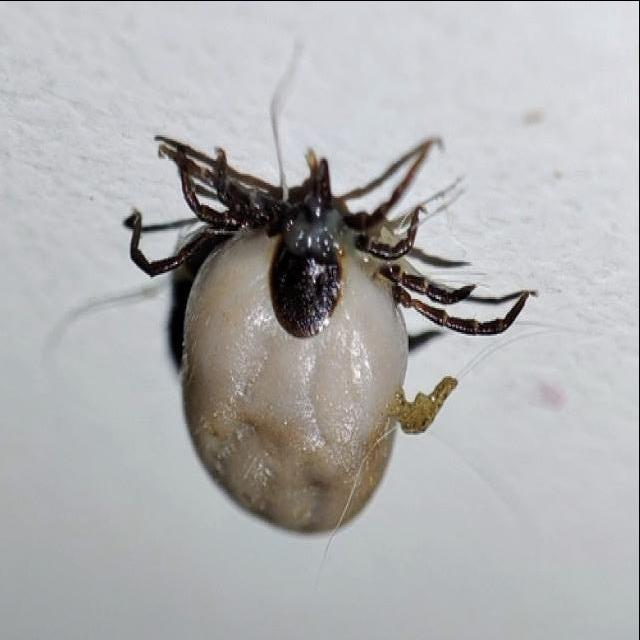Ixodes Ricinus-F-Fed: (122, 134, 536, 535)
